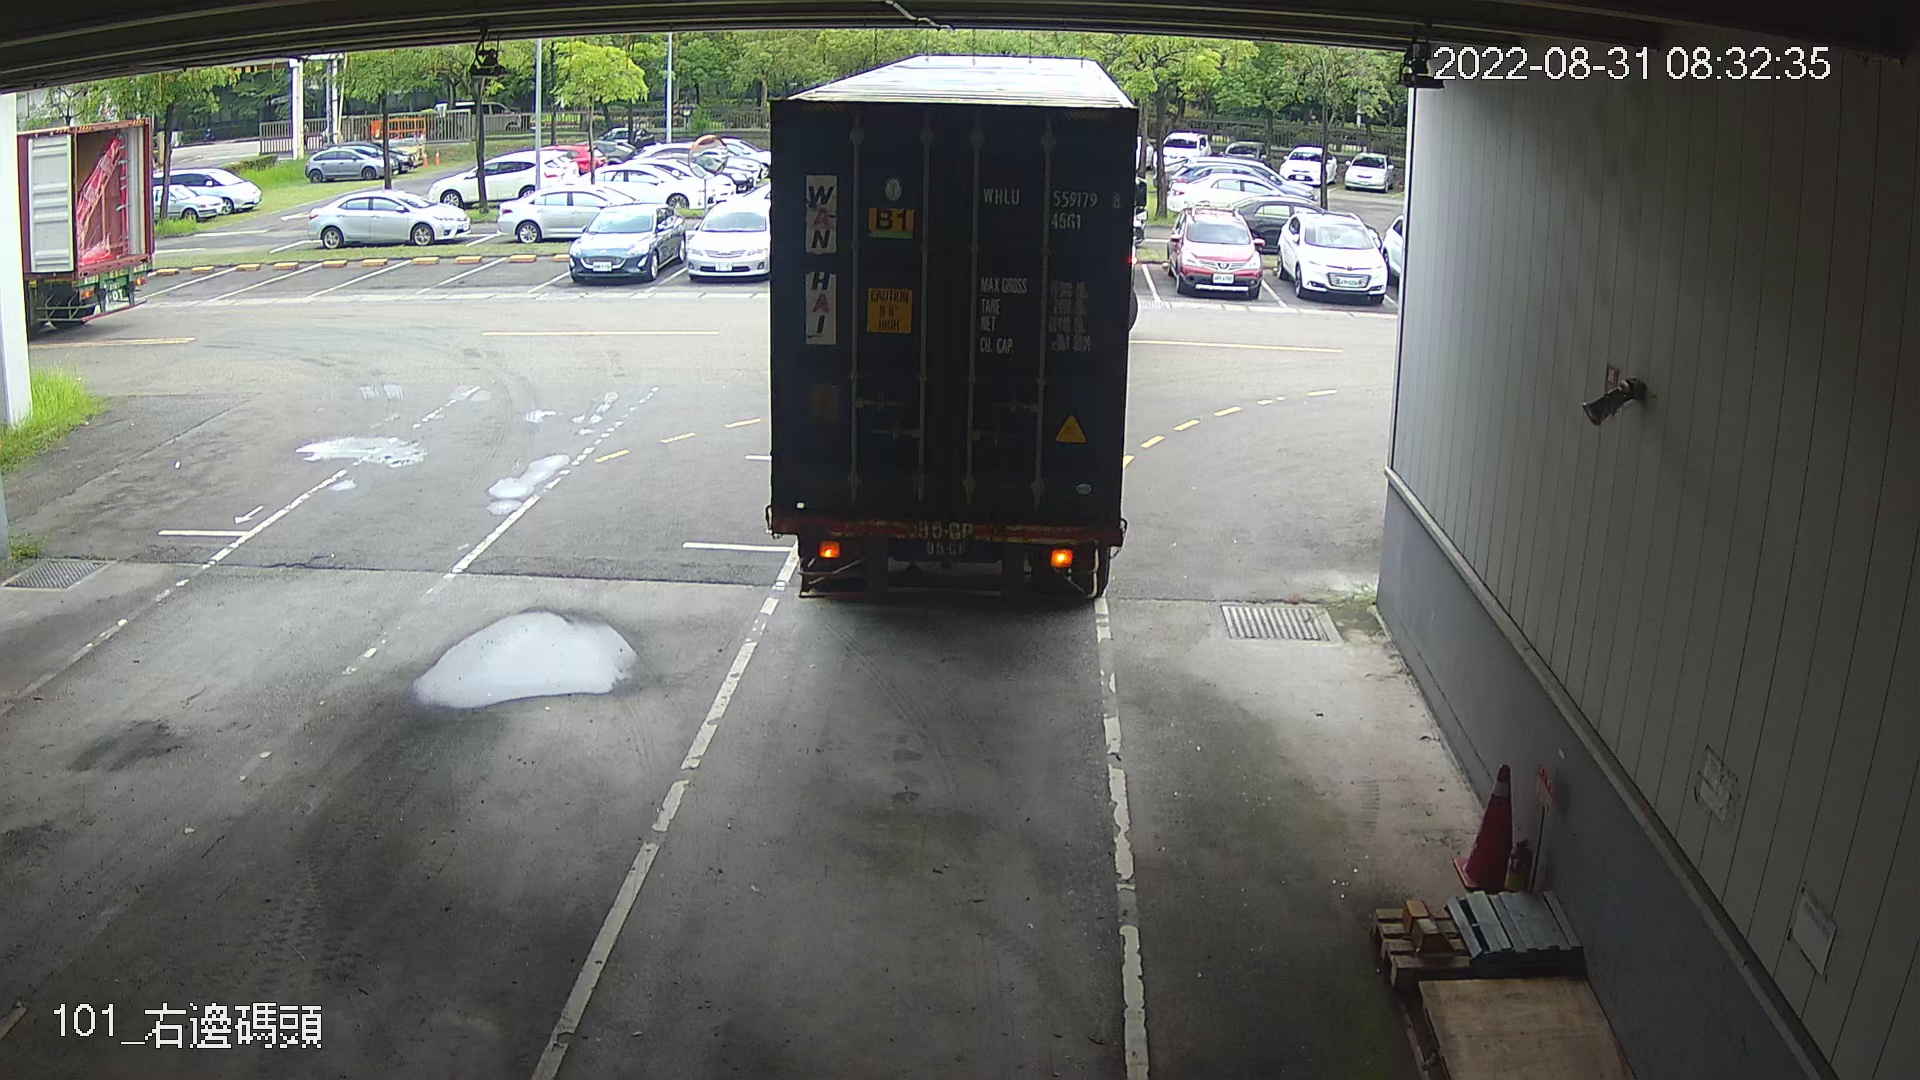container: (978, 173, 1129, 236)
